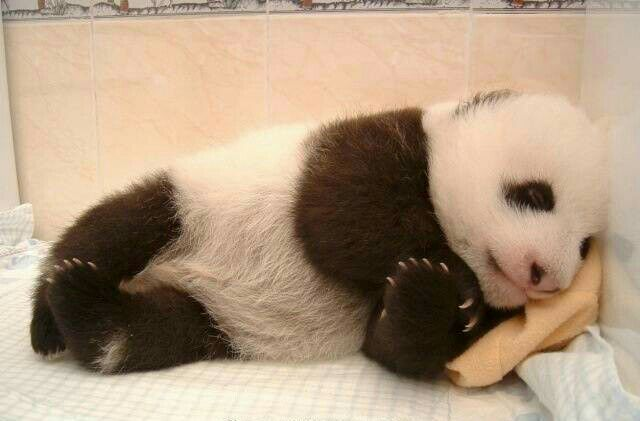panda: (24, 47, 617, 403)
